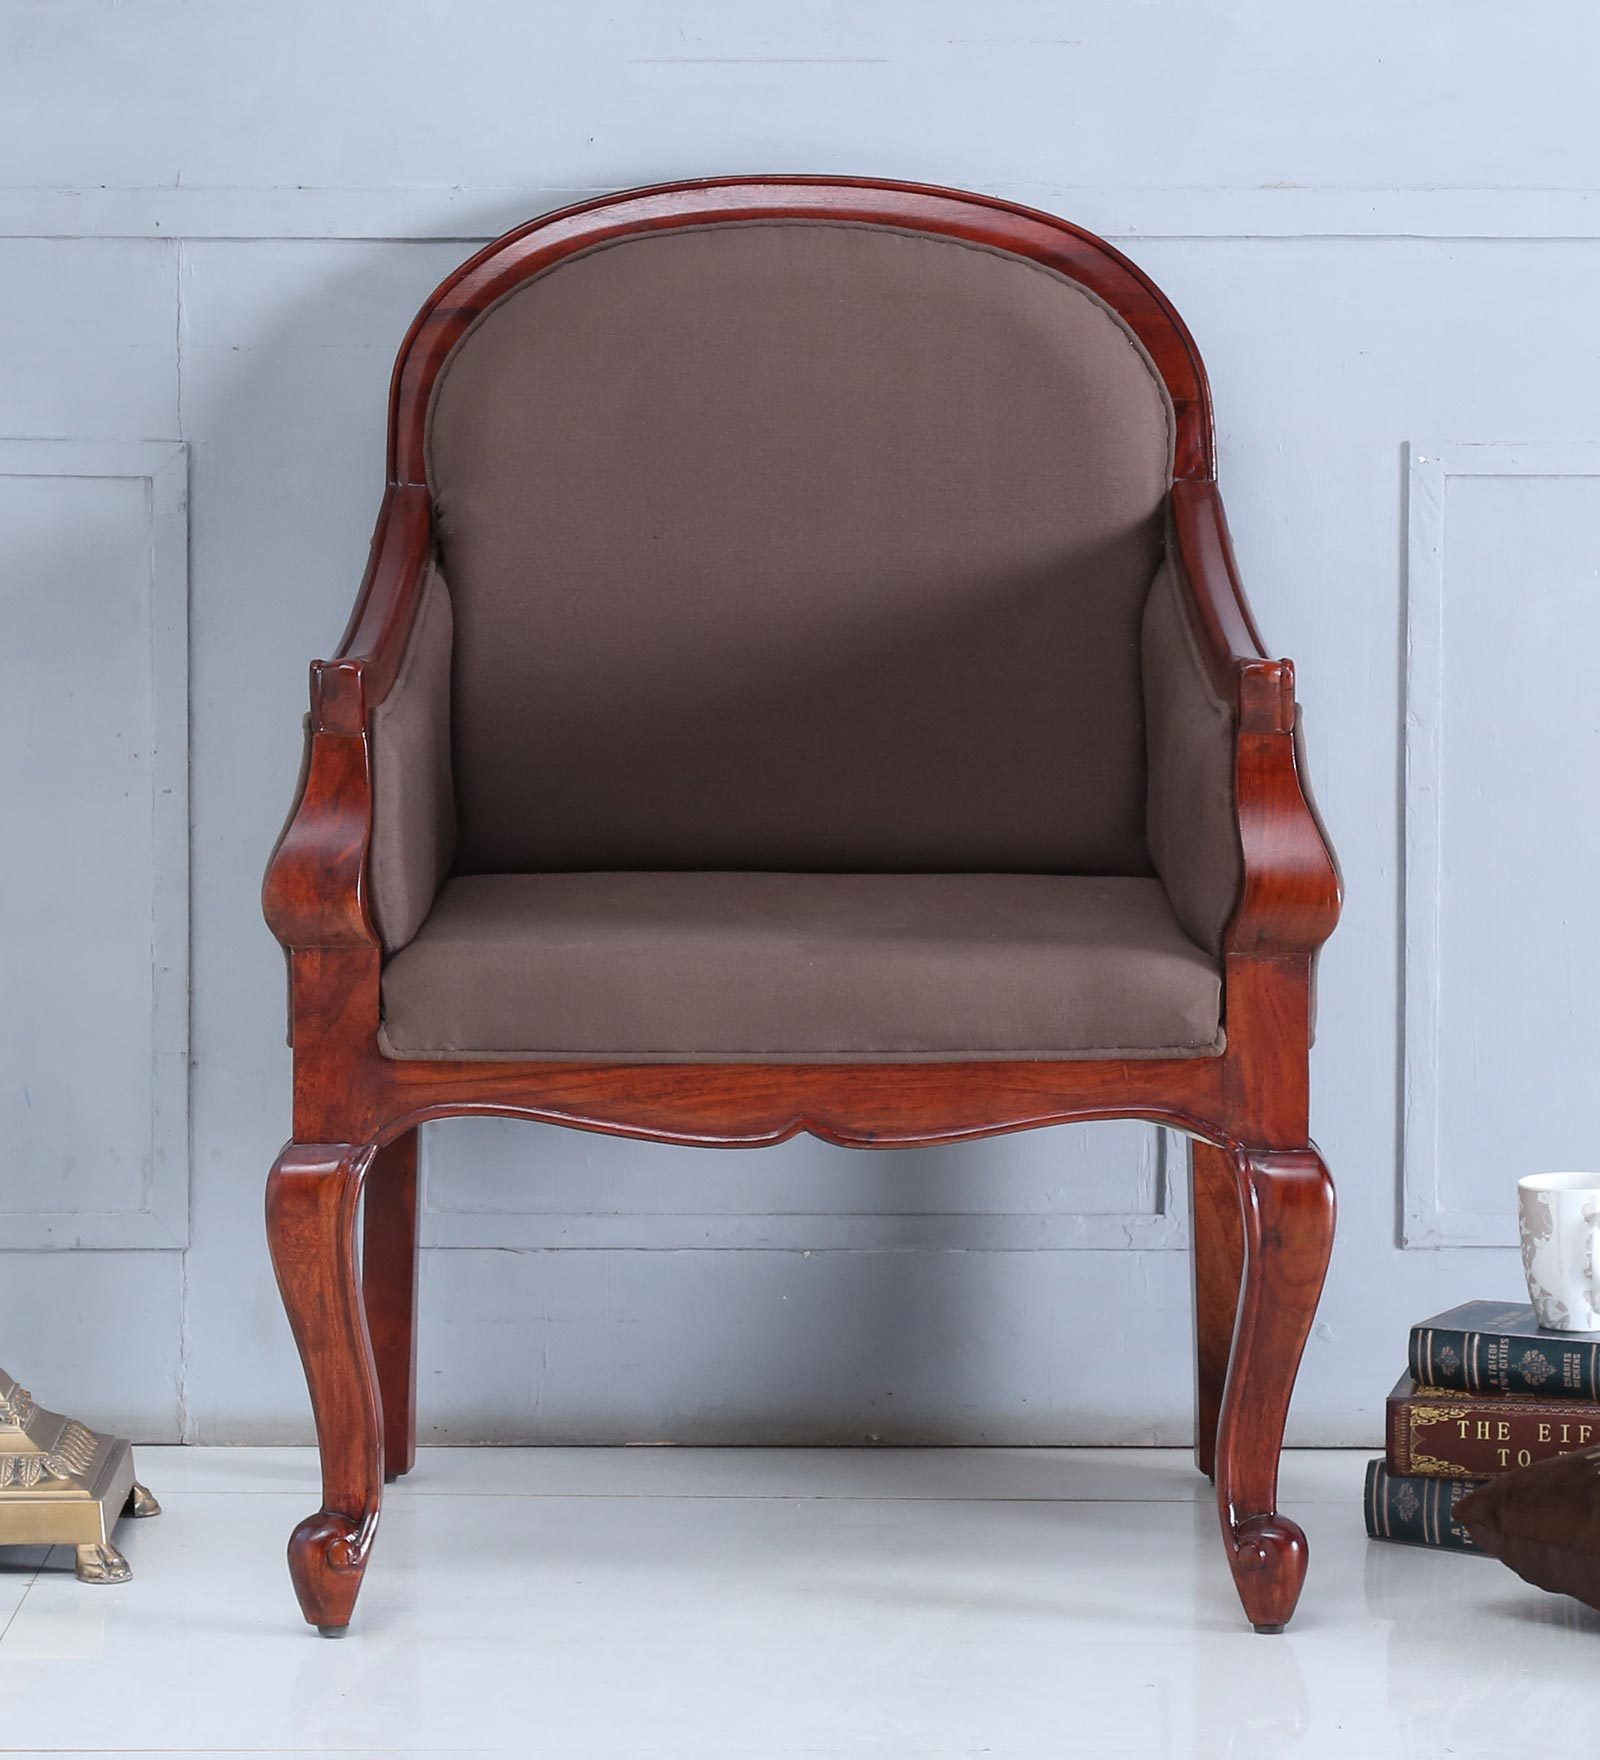Clifford Arm Chair in Honey Oak Finish by Amberville: (176, 173, 1376, 1688)
